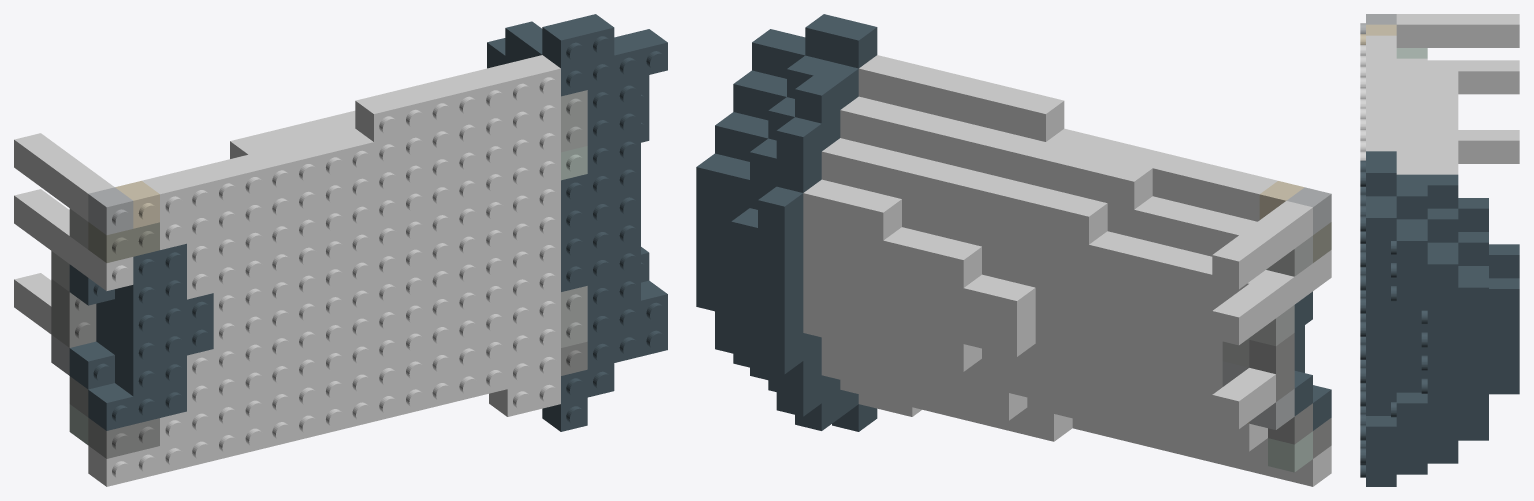
Rendered from full.glb.
The picture shows the model from 3 angles, left to right: view 1: azimuth 30°, elevation 25°; view 2: azimuth 150°, elevation 25°; view 3: azimuth 270°, elevation 25°; orthographic projection. The views are drawn at different scales.
Parts seen in each view (by area): view 1: world; view 2: world; view 3: world.
Boxes of the visible parts, x1,y1,x2,y2 form: world: (14, 14, 667, 486); world: (696, 14, 1331, 486); world: (1360, 14, 1519, 486).
Size of the model in its own units: 168 by 112 by 49.8.
